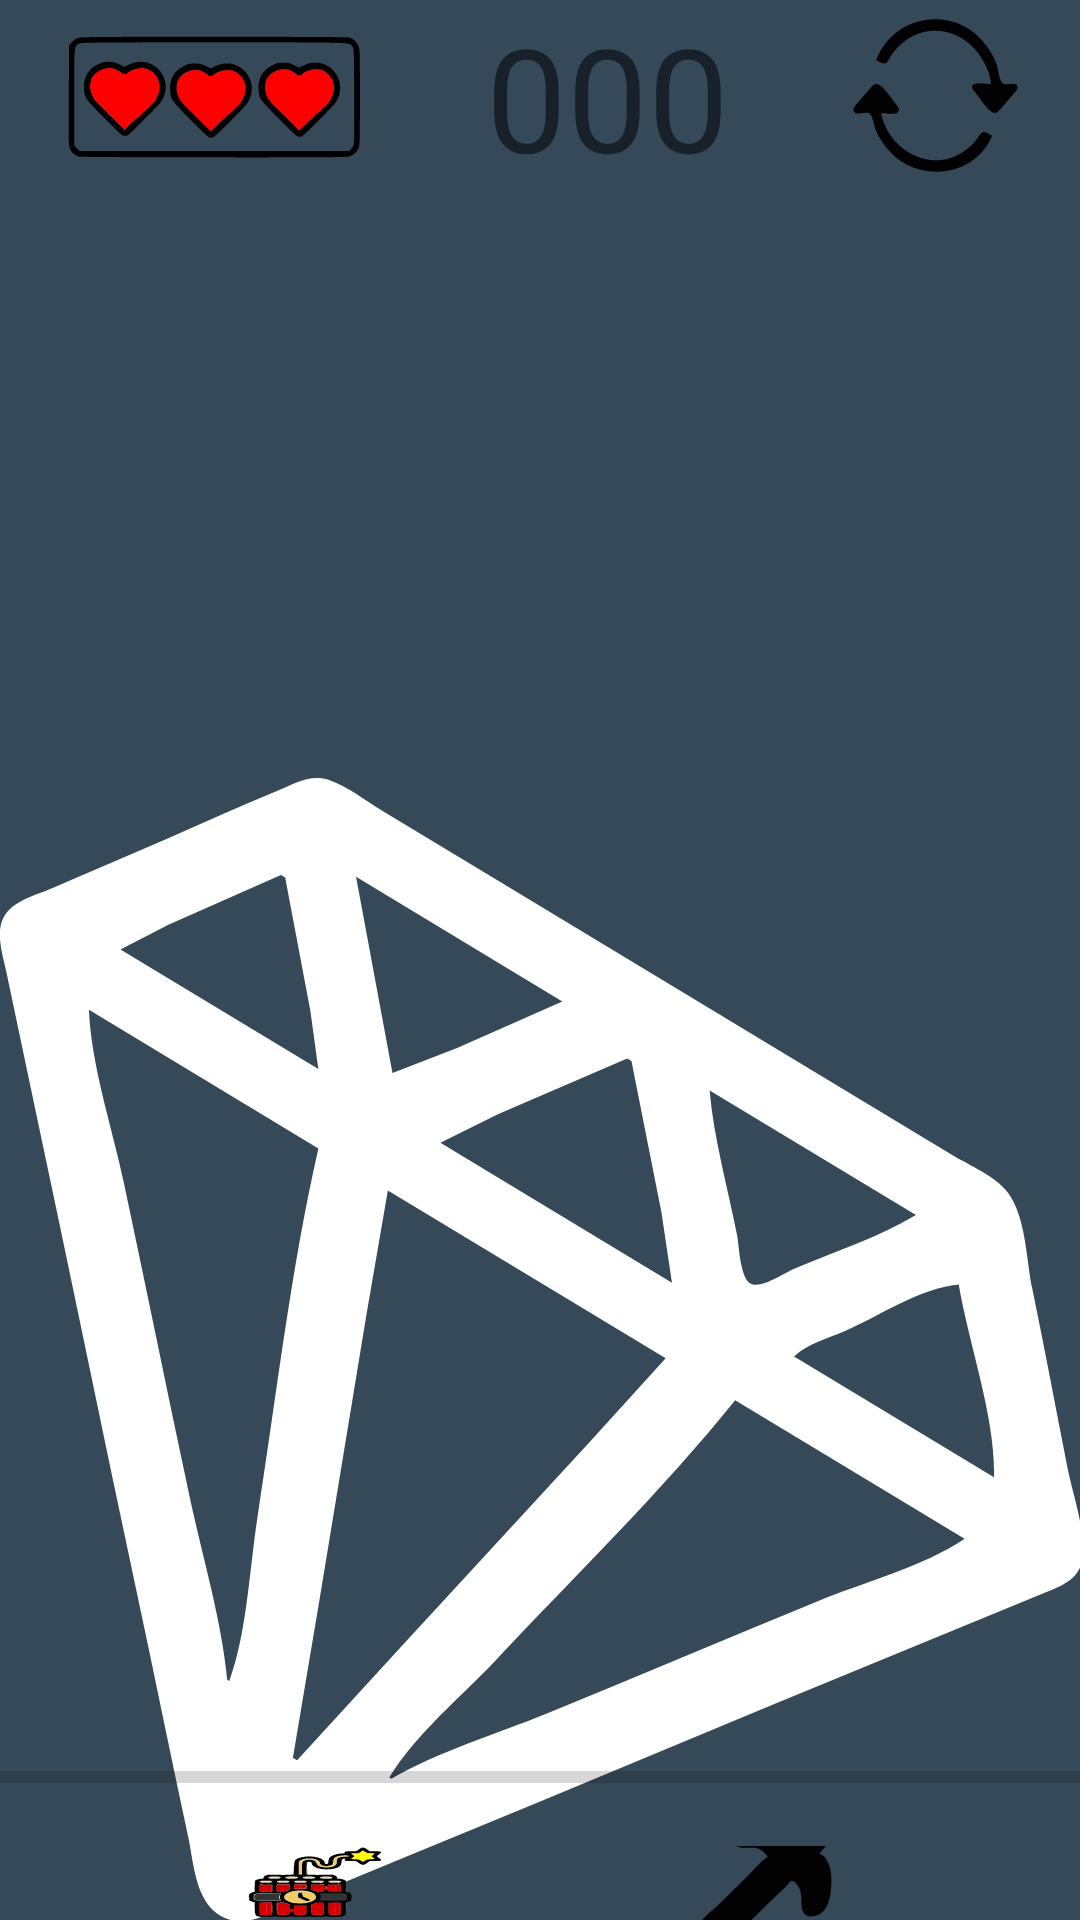

Where icons sit on this 1080x1920 app screen, as (x1, y1, x2, y2):
dinamita: (248, 1847, 390, 1920)
restart: (853, 19, 1018, 172)
vidas: (69, 37, 360, 158)
